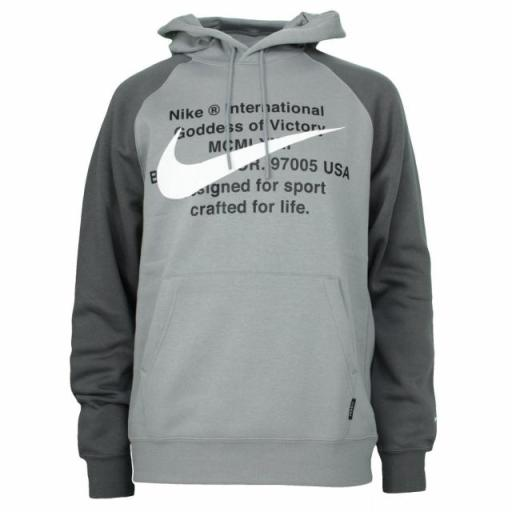Nike: (155, 122, 347, 200)
